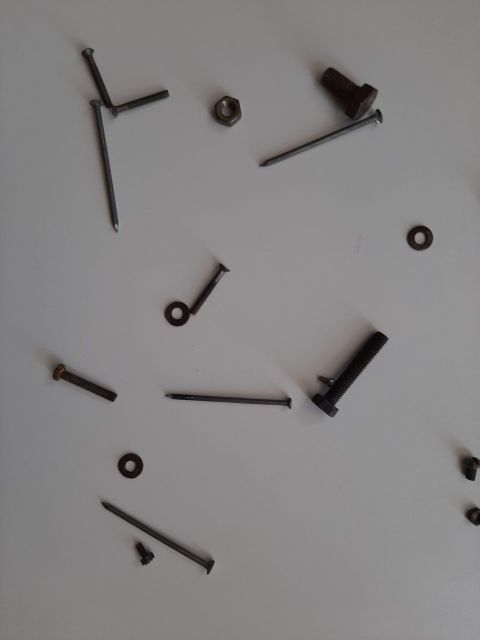gwozdz: (75, 475, 215, 585), (65, 95, 155, 245), (245, 95, 385, 185), (155, 355, 275, 425)
nakretka: (205, 75, 245, 125)
podkladka: (385, 205, 445, 265), (95, 445, 155, 495), (155, 275, 205, 325)
sruba: (305, 325, 395, 425), (305, 35, 385, 125), (35, 335, 125, 415), (175, 245, 245, 325), (65, 35, 125, 125), (95, 65, 175, 125)
